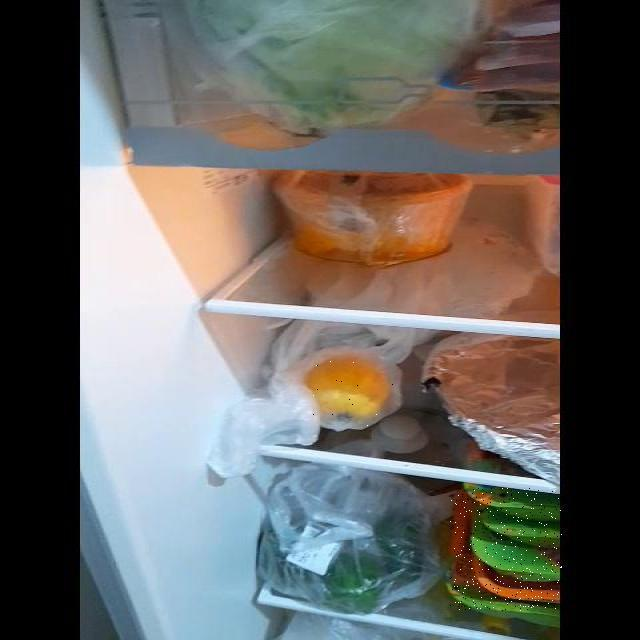chicken: (450, 488, 562, 611)
lemon: (309, 350, 398, 427)
